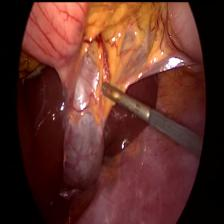Grasper: (96, 77, 151, 123)
